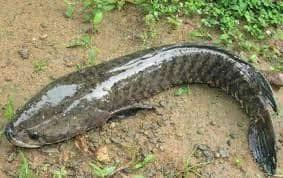Mudfish: (7, 43, 279, 169)
